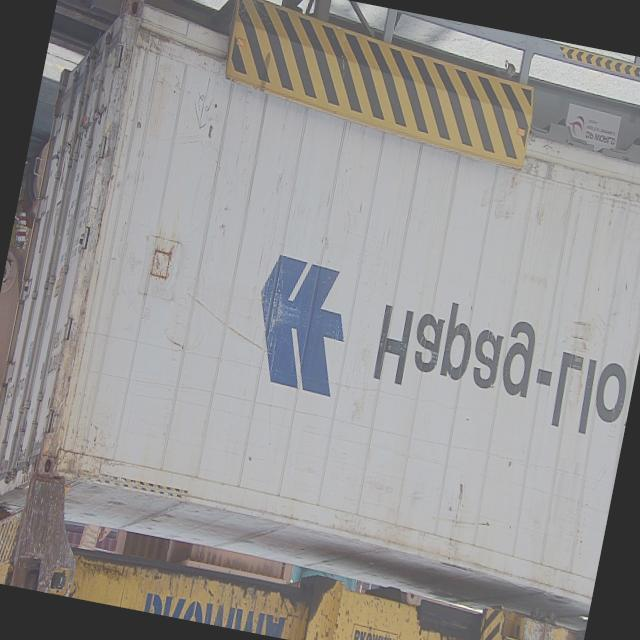rust: (1, 383, 72, 508), (139, 224, 186, 296)
